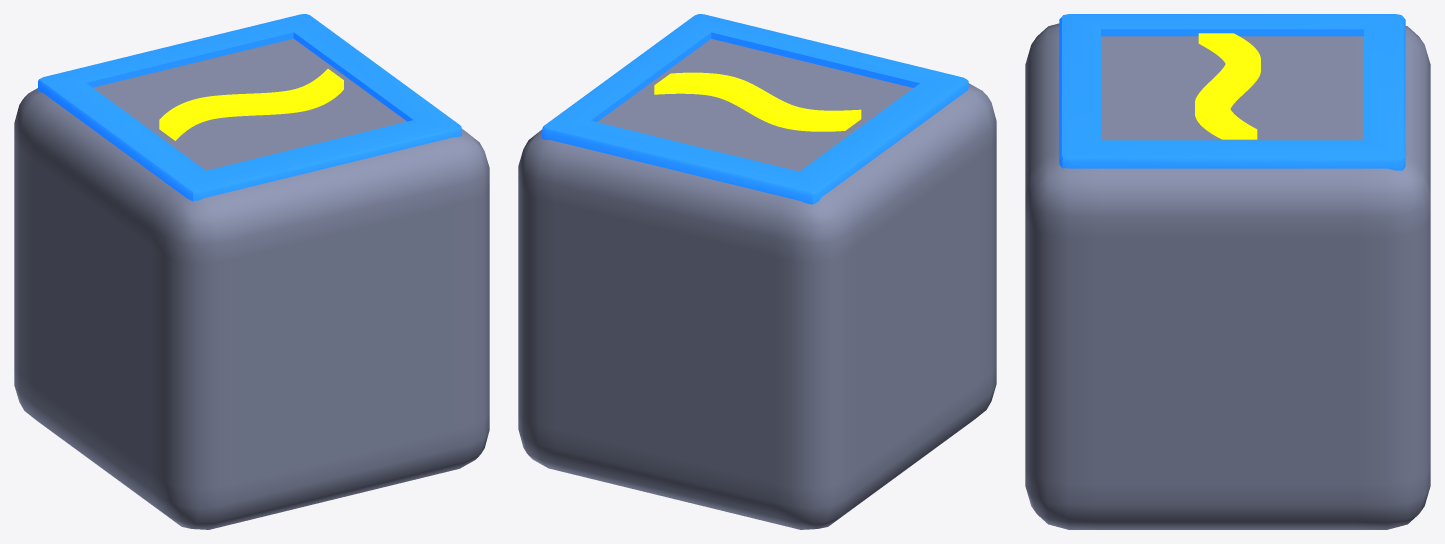
Rendered from DestroyebleTileModel.fbx.
3 views of the same model, side by side, from view 1: azimuth 30°, elevation 25°; view 2: azimuth 150°, elevation 25°; view 3: azimuth 270°, elevation 25° (orthographic). The views are drawn at different scales.
Parts seen in each view (by area): view 1: DestroyebleTile, DestroyebleTileGlow, DestroyebleTileAdditionalGlow; view 2: DestroyebleTile, DestroyebleTileGlow, DestroyebleTileAdditionalGlow; view 3: DestroyebleTile, DestroyebleTileGlow, DestroyebleTileAdditionalGlow.
Boxes of the visible parts, <box> form: DestroyebleTile: <box>14,38,489,529</box>; DestroyebleTileGlow: <box>38,14,461,201</box>; DestroyebleTileAdditionalGlow: <box>159,69,343,140</box>; DestroyebleTile: <box>518,39,996,529</box>; DestroyebleTileGlow: <box>542,14,968,204</box>; DestroyebleTileAdditionalGlow: <box>654,72,861,131</box>; DestroyebleTile: <box>1025,23,1430,529</box>; DestroyebleTileGlow: <box>1059,14,1405,170</box>; DestroyebleTileAdditionalGlow: <box>1195,33,1260,139</box>.
Size of the model in its own units: 200 by 206 by 200.
